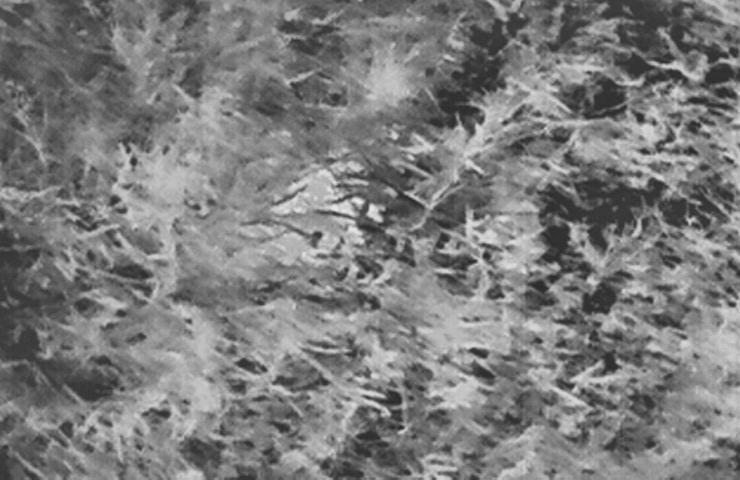landmines: (273, 150, 385, 276)
